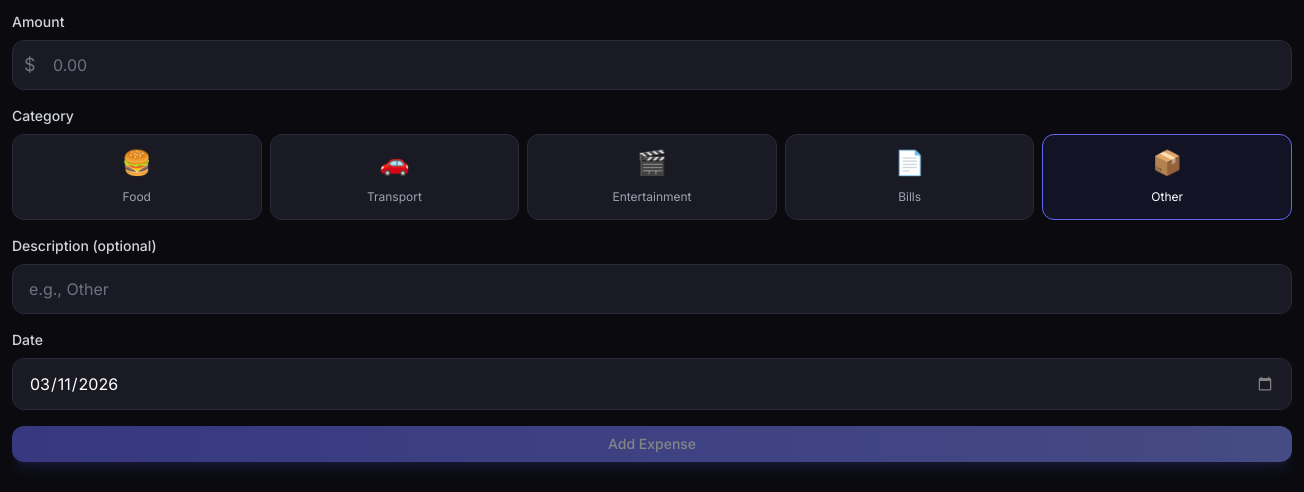
Test case: ExpenseForm › enables submit button when amount is entered
Step 1. Type "25.50" into the number field with placeholder "0.00" → (652, 65), box [12, 40, 1292, 90]
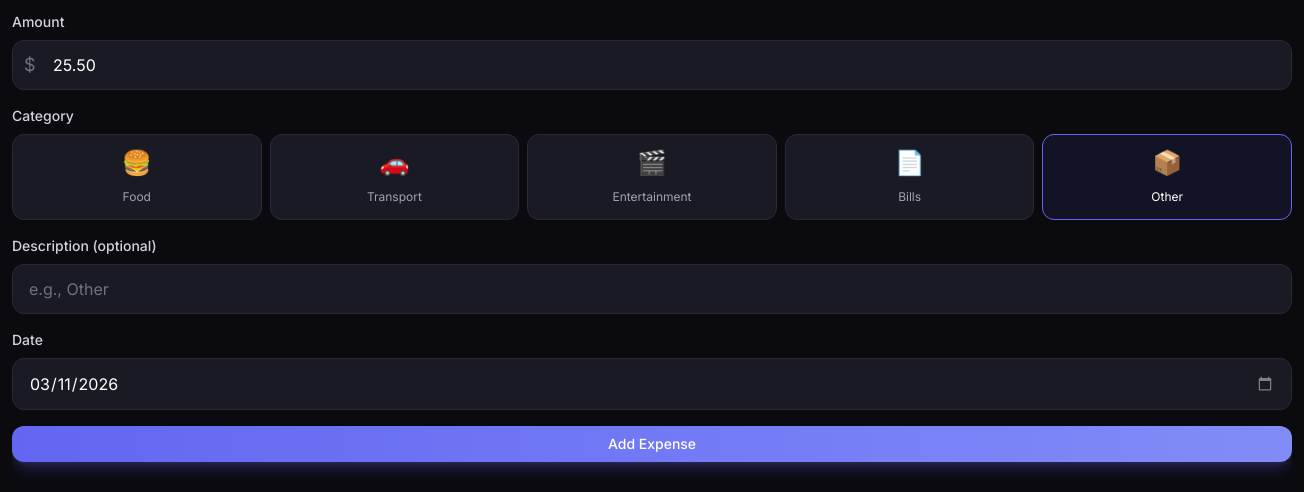
Now the button "Add Expense" is enabled, box [12, 426, 1292, 462]
